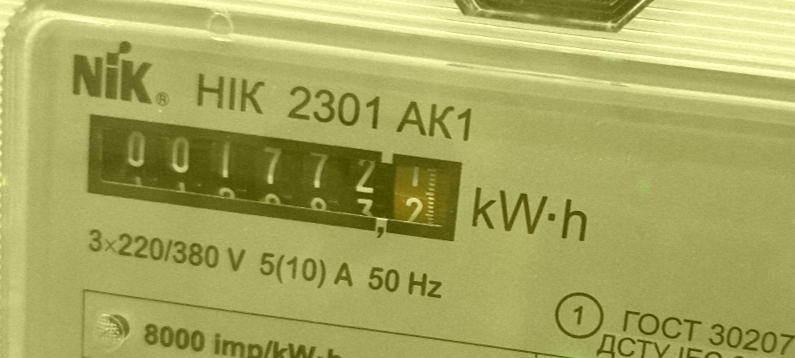0: (117, 126, 150, 170), (165, 133, 193, 175)
1: (213, 139, 235, 180), (405, 164, 422, 191)
2: (350, 157, 378, 197), (397, 193, 424, 225)
3: (351, 196, 376, 220)
7: (255, 144, 283, 188), (301, 150, 328, 191)
screen: (64, 94, 482, 262)
